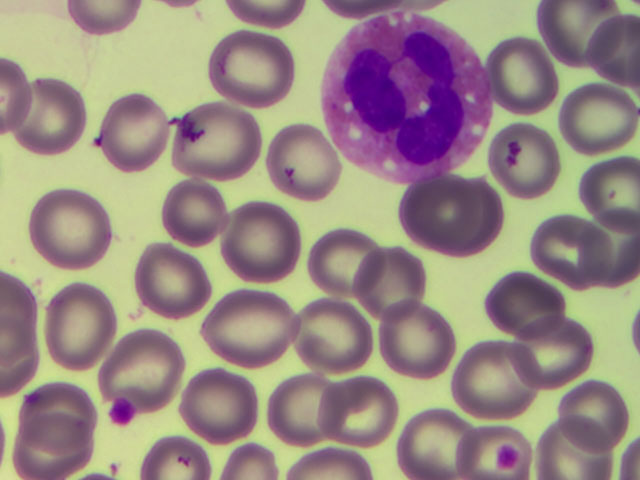Platelets: (106, 398, 133, 428)
RBC: (556, 145, 640, 229), (556, 81, 640, 165), (556, 372, 640, 456), (8, 72, 91, 156), (90, 89, 173, 173), (180, 102, 263, 186), (211, 29, 294, 113), (258, 110, 341, 194), (219, 201, 302, 285), (155, 169, 238, 253), (138, 237, 221, 321), (31, 192, 114, 276), (40, 282, 123, 366), (106, 321, 189, 405), (212, 288, 295, 372), (288, 288, 371, 372), (299, 216, 382, 300), (347, 233, 430, 317), (397, 174, 480, 258), (377, 292, 460, 376), (322, 365, 405, 449), (254, 367, 337, 451), (176, 366, 259, 450), (19, 361, 102, 445), (10, 396, 93, 480), (458, 338, 541, 422), (505, 309, 588, 393), (484, 268, 567, 352), (527, 213, 610, 297), (486, 117, 569, 201), (484, 35, 567, 119), (395, 168, 478, 252), (440, 173, 523, 257), (393, 396, 476, 480), (537, 1, 620, 83), (460, 415, 536, 480), (534, 422, 614, 480)
WBC: (319, 12, 486, 178)
